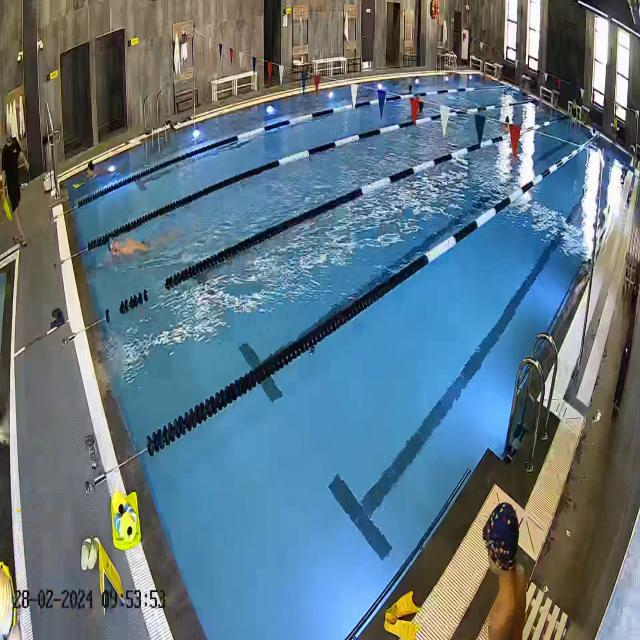coach: (0, 123, 30, 250)
